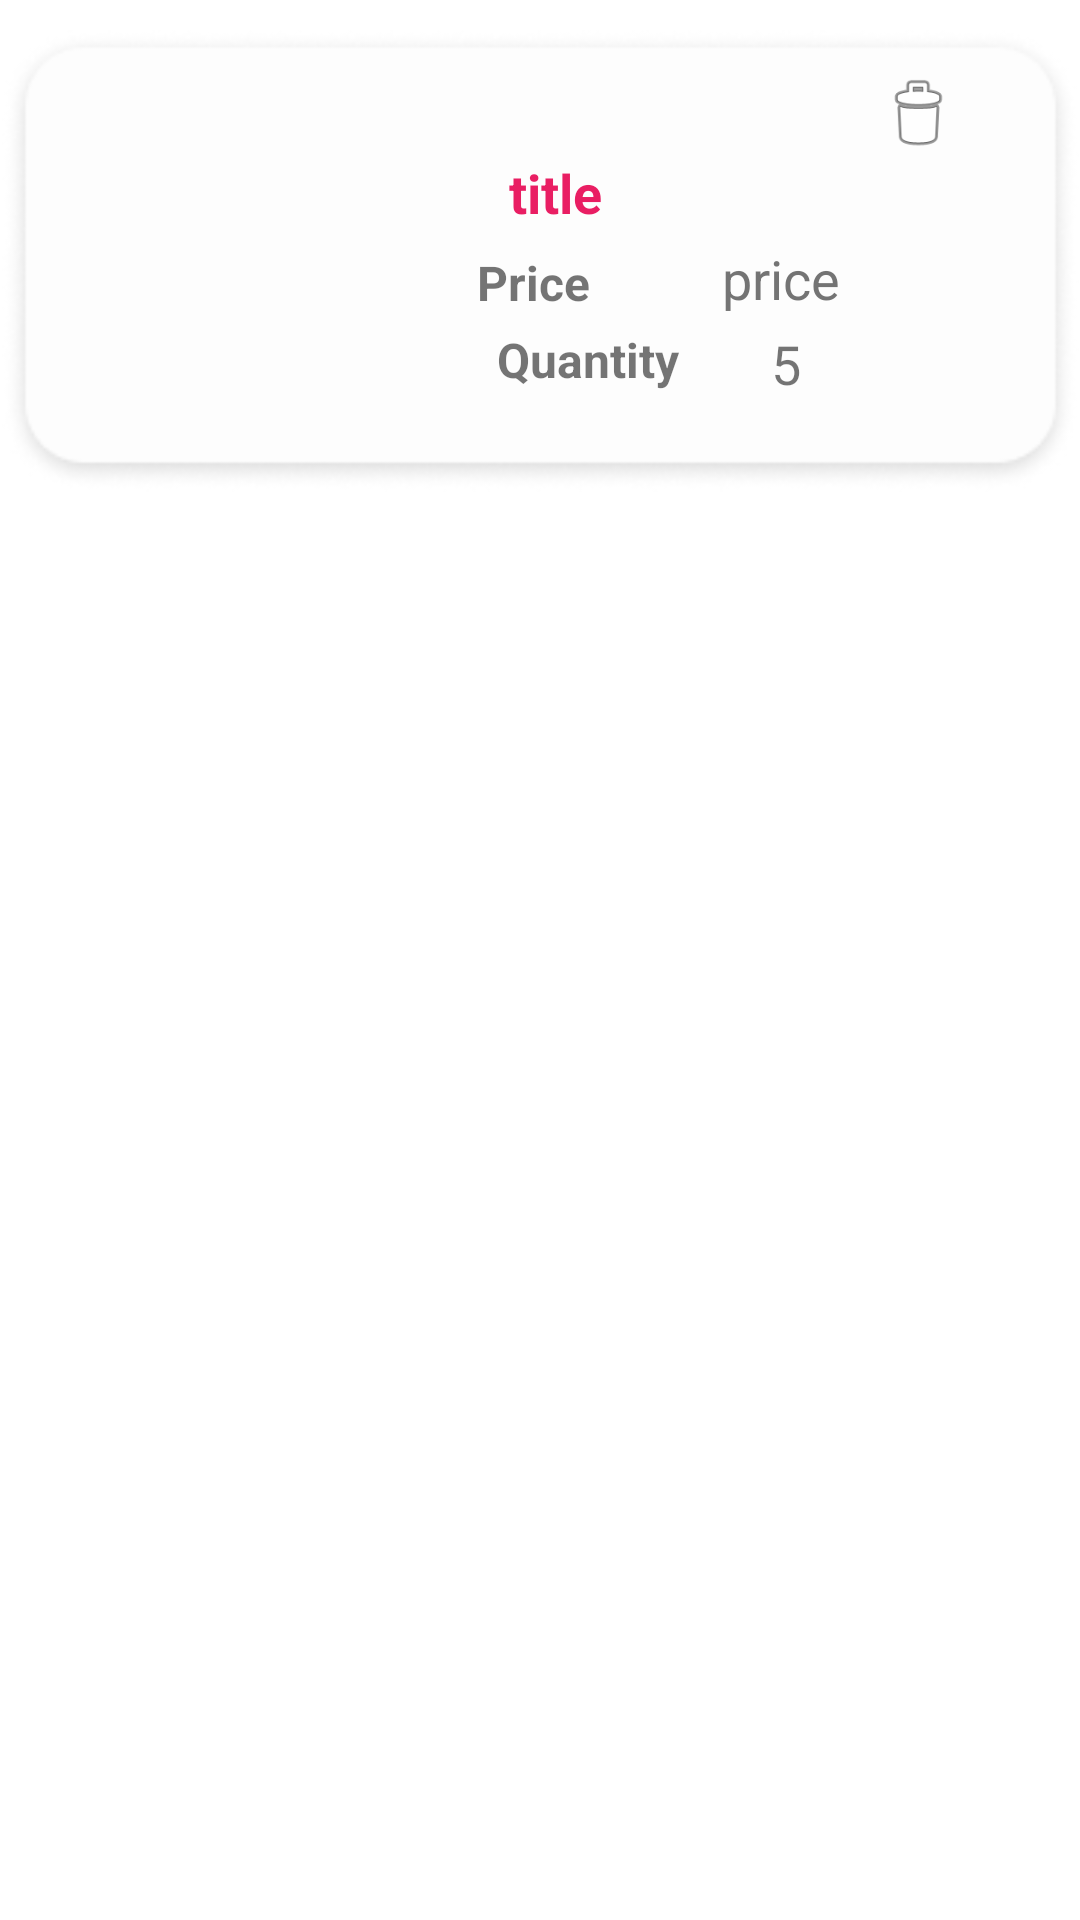

Where to tap for icons on this 1080px x 1920px app screen, as (x,y):
delete: (918,113)
